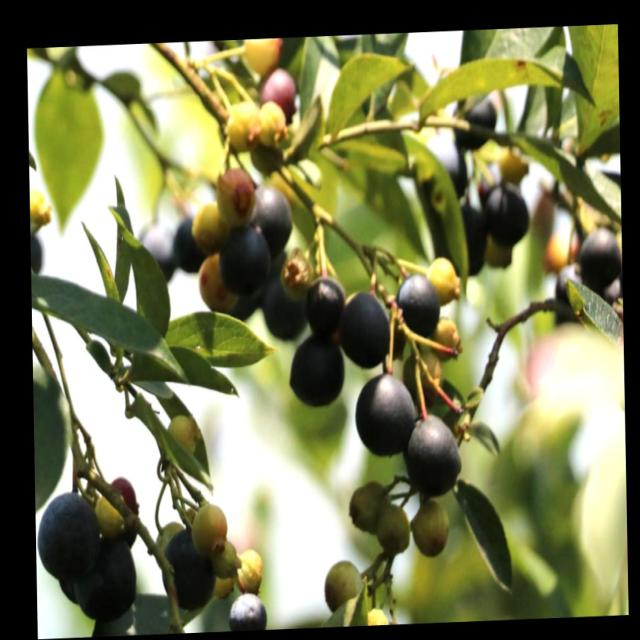blueberry: (35, 484, 106, 587), (72, 523, 143, 621), (399, 405, 468, 504), (350, 368, 420, 461), (283, 328, 350, 412), (158, 519, 216, 613), (335, 281, 395, 371), (243, 174, 296, 259), (215, 215, 272, 292), (483, 176, 537, 252), (390, 264, 445, 338), (258, 272, 308, 344), (131, 215, 177, 289), (572, 226, 622, 292), (304, 269, 346, 338), (169, 210, 210, 275), (222, 584, 272, 631)
blueberry-unripe: (400, 343, 445, 397), (212, 161, 251, 222), (411, 494, 450, 552), (323, 552, 361, 610), (349, 478, 388, 532), (192, 499, 228, 557), (226, 96, 262, 149), (377, 502, 412, 551), (427, 254, 458, 304), (256, 98, 286, 147), (428, 316, 461, 359), (236, 547, 262, 591)
